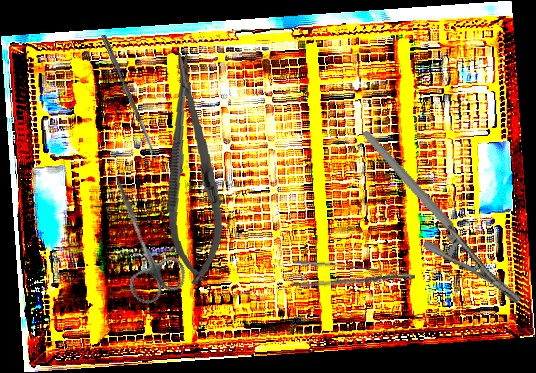Dressing Forceps: (290, 257, 416, 301)
Iris Scissors: (86, 164, 193, 309)
Needle Holder: (361, 100, 524, 333), (156, 50, 228, 287)
Surgical Spoon: (100, 34, 158, 160)
